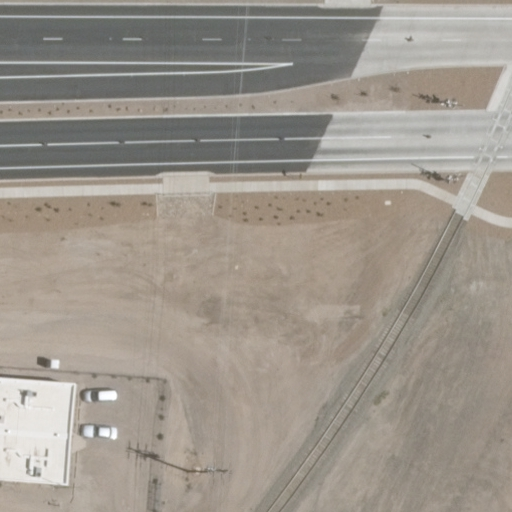DT: (178, 461, 235, 481)
